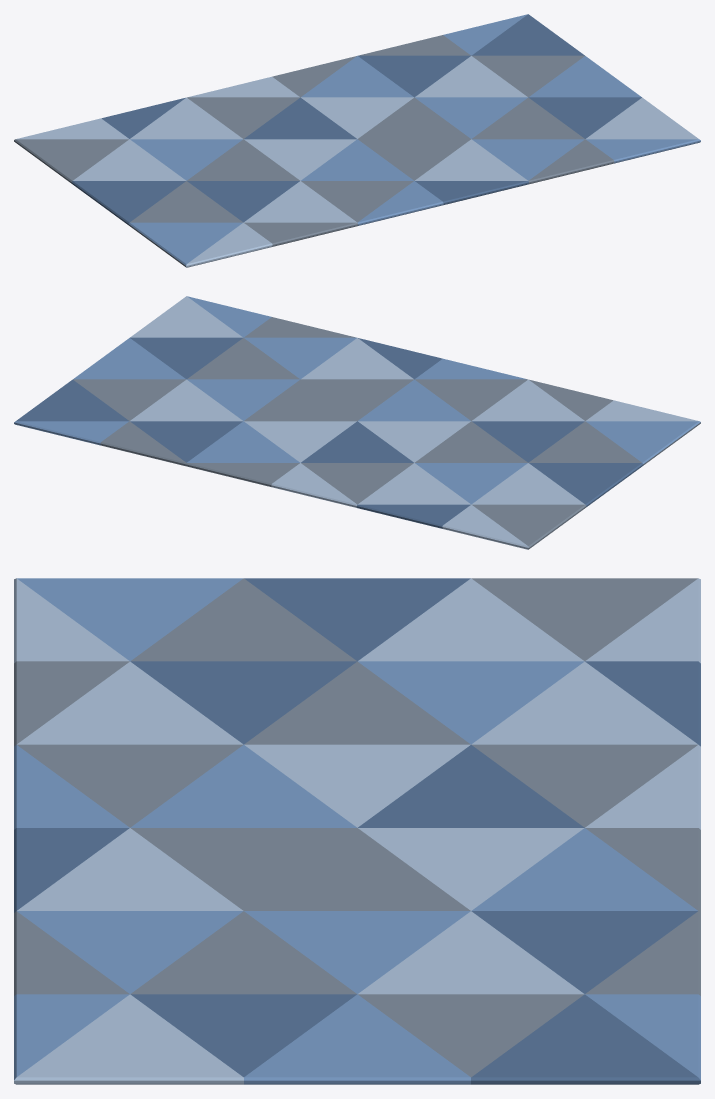
Rendered from rug.glb.
The picture shows the model from 3 angles, top to bottom: view 1: azimuth 30°, elevation 25°; view 2: azimuth 150°, elevation 25°; view 3: azimuth 270°, elevation 25°; orthographic projection. The views are drawn at different scales.
Parts seen in each view (by area): view 1: rug; view 2: rug; view 3: rug.
Boxes of the visible parts, x1,y1,x2,y2 form: rug: (14,14,700,267); rug: (14,296,700,549); rug: (14,578,700,1084).
Bounding box in the file's own units: 3 × 0.0202 × 1.74.
